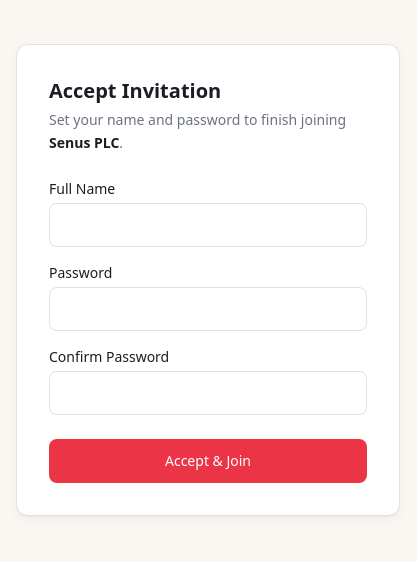
Test: AcceptInvitationView › new-user invitation › blocks submission client-side when passwords don't match
Type "Jane Doe" into the field labelled "Full Name" at (208, 225), box [49,203,367,247]
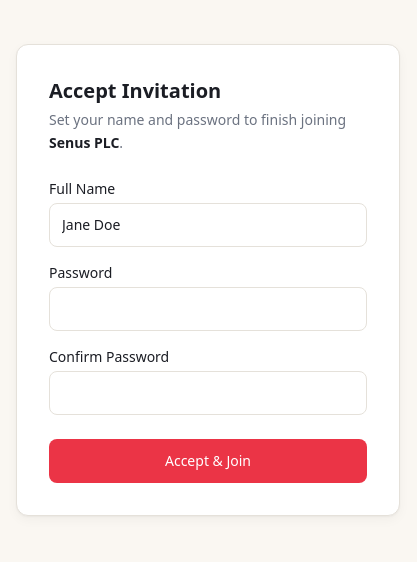
Type "password123" into the password field labelled "Password" at (208, 309), box [49,287,367,331]
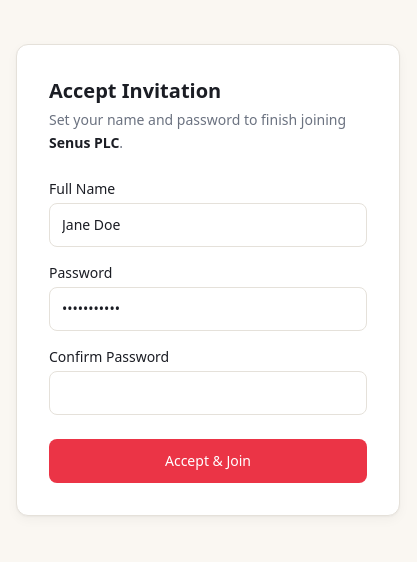
Type "different1" into the password field labelled "Confirm Password" at (208, 393), box [49,371,367,415]
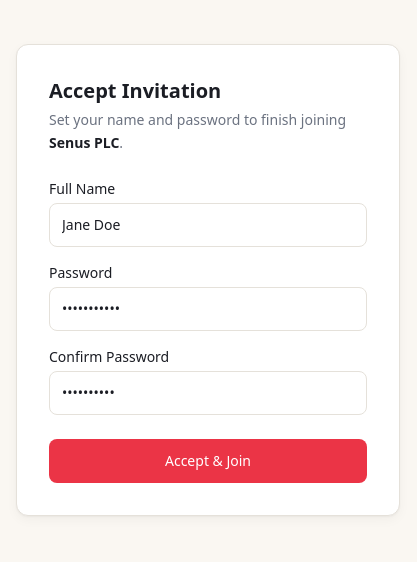
Click the button "Accept & Join" at (208, 461), box [49,439,367,483]
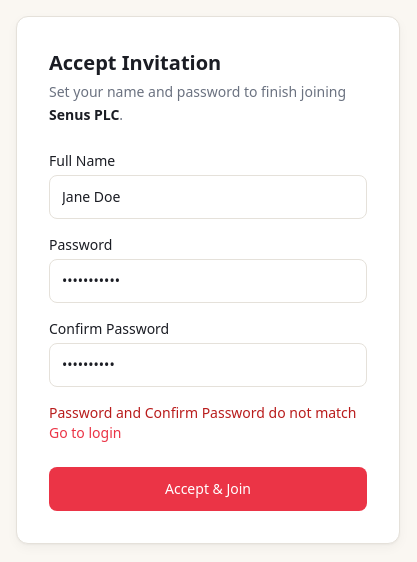
Now the text "Password and Confirm Password do not match" is shown, box [49,403,356,422]
